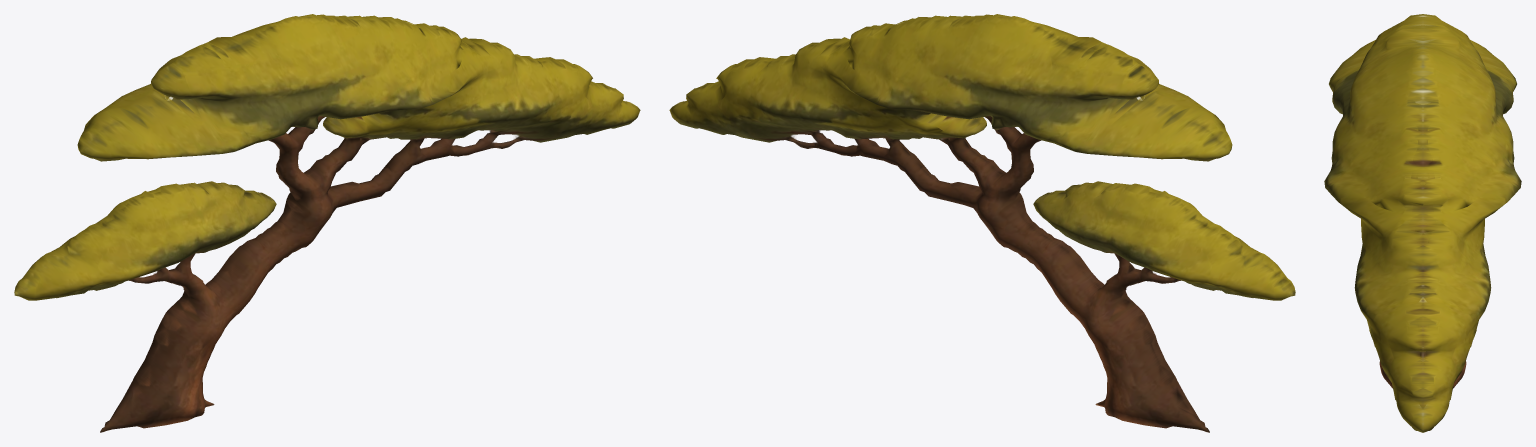
Rendered from 25_trees_d_r00_c01.glb.
The picture shows the model from 3 angles, left to right: view 1: azimuth 30°, elevation 25°; view 2: azimuth 150°, elevation 25°; view 3: azimuth 270°, elevation 25°; orthographic projection. The views are drawn at different scales.
Visible parts, largest first — view 1: 25_trees_d_r00_c01; view 2: 25_trees_d_r00_c01; view 3: 25_trees_d_r00_c01.
Boxes of the visible parts, <box> form: 25_trees_d_r00_c01: <box>14,14,640,432</box>; 25_trees_d_r00_c01: <box>669,14,1295,432</box>; 25_trees_d_r00_c01: <box>1324,14,1521,432</box>.
Bounding box in the file's own units: 6.55 × 3.7 × 1.65.
Materials: 1 (1 with a texture image).
